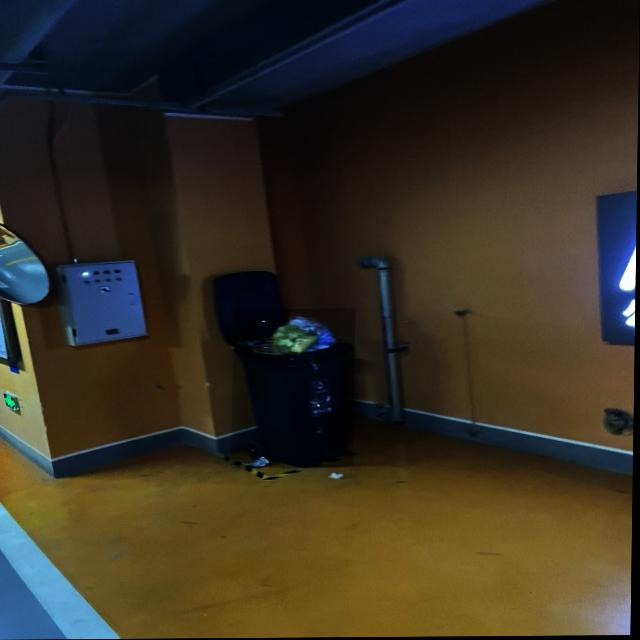overflow: (233, 309, 356, 468)
